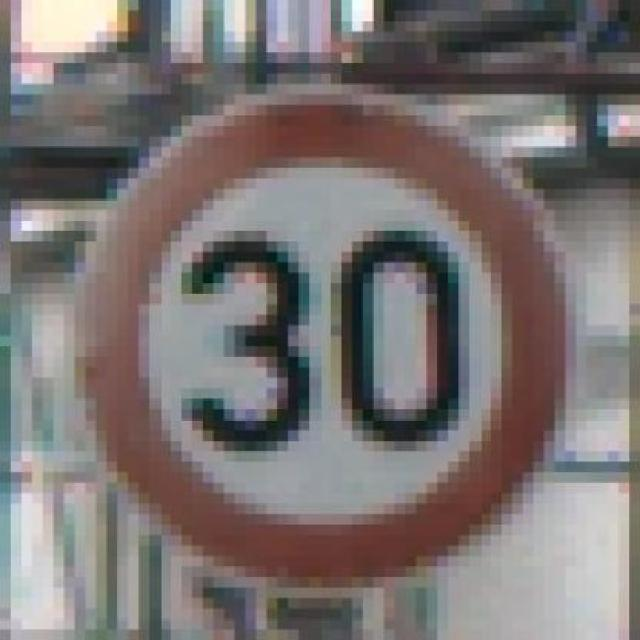Speed Limit 30 KMPh: (53, 73, 576, 598)
